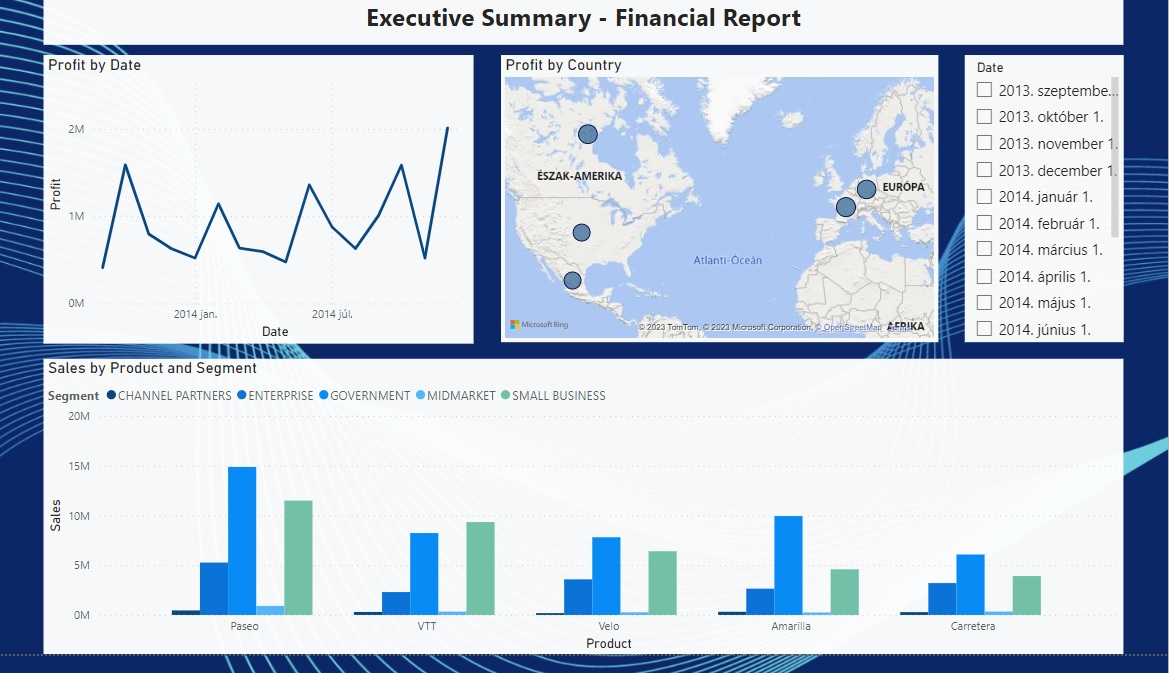

The page's visual inventory and layout, read from the dashboard file:
{"tool":"powerbi","page":{"name":"Page 1","canvas":[1280,720],"ordinal":0},"visuals":[{"type":"textbox","box":[51.9,0,1179.3,54.6],"z":0},{"type":"lineChart","fields":{"Category":["Calendar.Date"],"Y":["Sum(financials.Profit)"]},"box":[51.9,65.5,469.5,315.3],"z":1000},{"type":"map","fields":{"Category":["financials.Country"],"Size":["Sum(financials.Profit)"]},"box":[551.4,65.5,477.7,313.9],"z":2000},{"type":"clusteredColumnChart","fields":{"Y":["Sum(financials. Sales)"],"Category":["financials.Product"],"Series":["financials.Segment"]},"box":[51.9,397.2,1179.3,323.5],"z":3000},{"type":"slicer","fields":{"Values":["financials.Date"]},"box":[1057.8,65.5,173.3,313.9],"z":3001}]}

Visuals, with their boxes in screenshot pixels (x1, y1, x2, y2), scaled from the page's 1280x720 canvas onto the 1169x673 screenshot:
textbox: box(47, 0, 1124, 51)
lineChart - Calendar.Date x Sum(financials.Profit): box(47, 61, 476, 356)
map - financials.Country x Sum(financials.Profit): box(504, 61, 940, 355)
clusteredColumnChart - Sum(financials. Sales) x financials.Product: box(47, 371, 1124, 672)
slicer - financials.Date: box(966, 61, 1124, 355)
